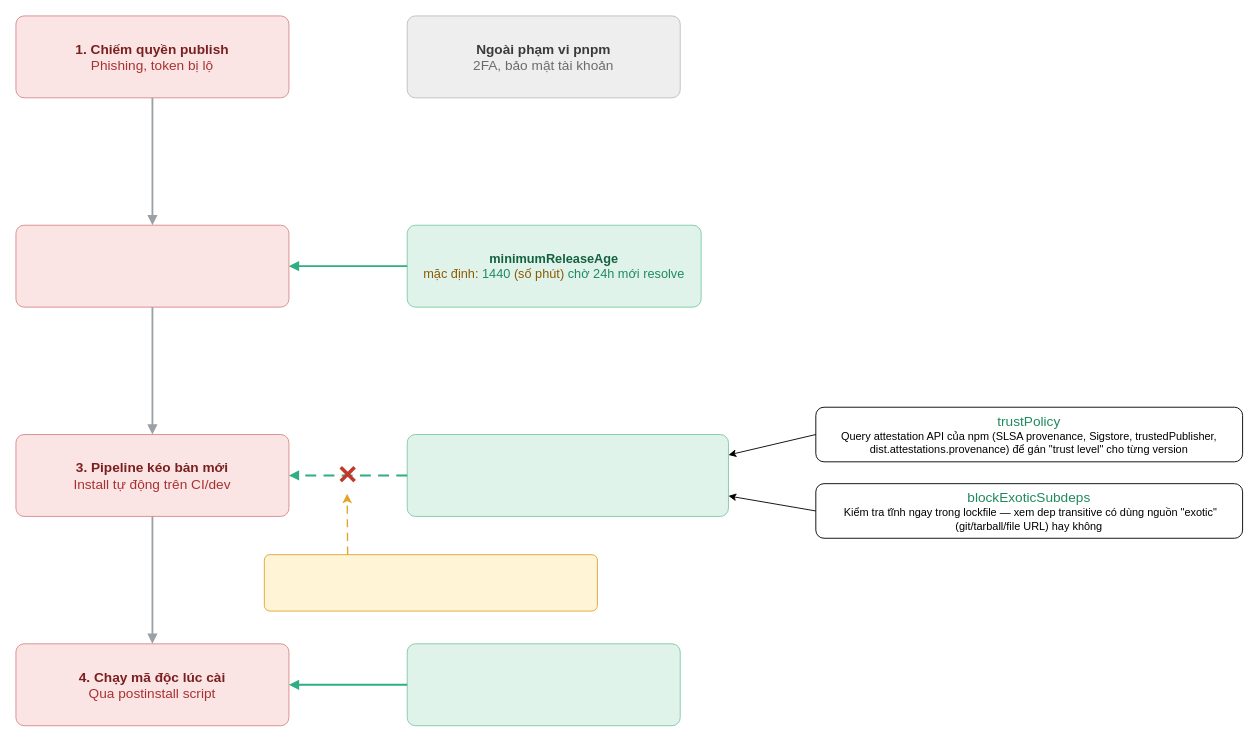
Image size: 1259x742. Some labels were removed from this diagram. The centre of each missing label's shape, as x and y in pixels:
"2. Publish version độc Đẩy lên npm registry" goes at point (152, 265).
"allowBuilds Chặn build script mặc định" goes at point (543, 684).
"Lockfile verification supply-chain policies" goes at point (567, 475).
"⚠ trustLockfile = true Bỏ qua lockfile verification → lớp bảo vệ mất tác dụng" goes at point (430, 582).
